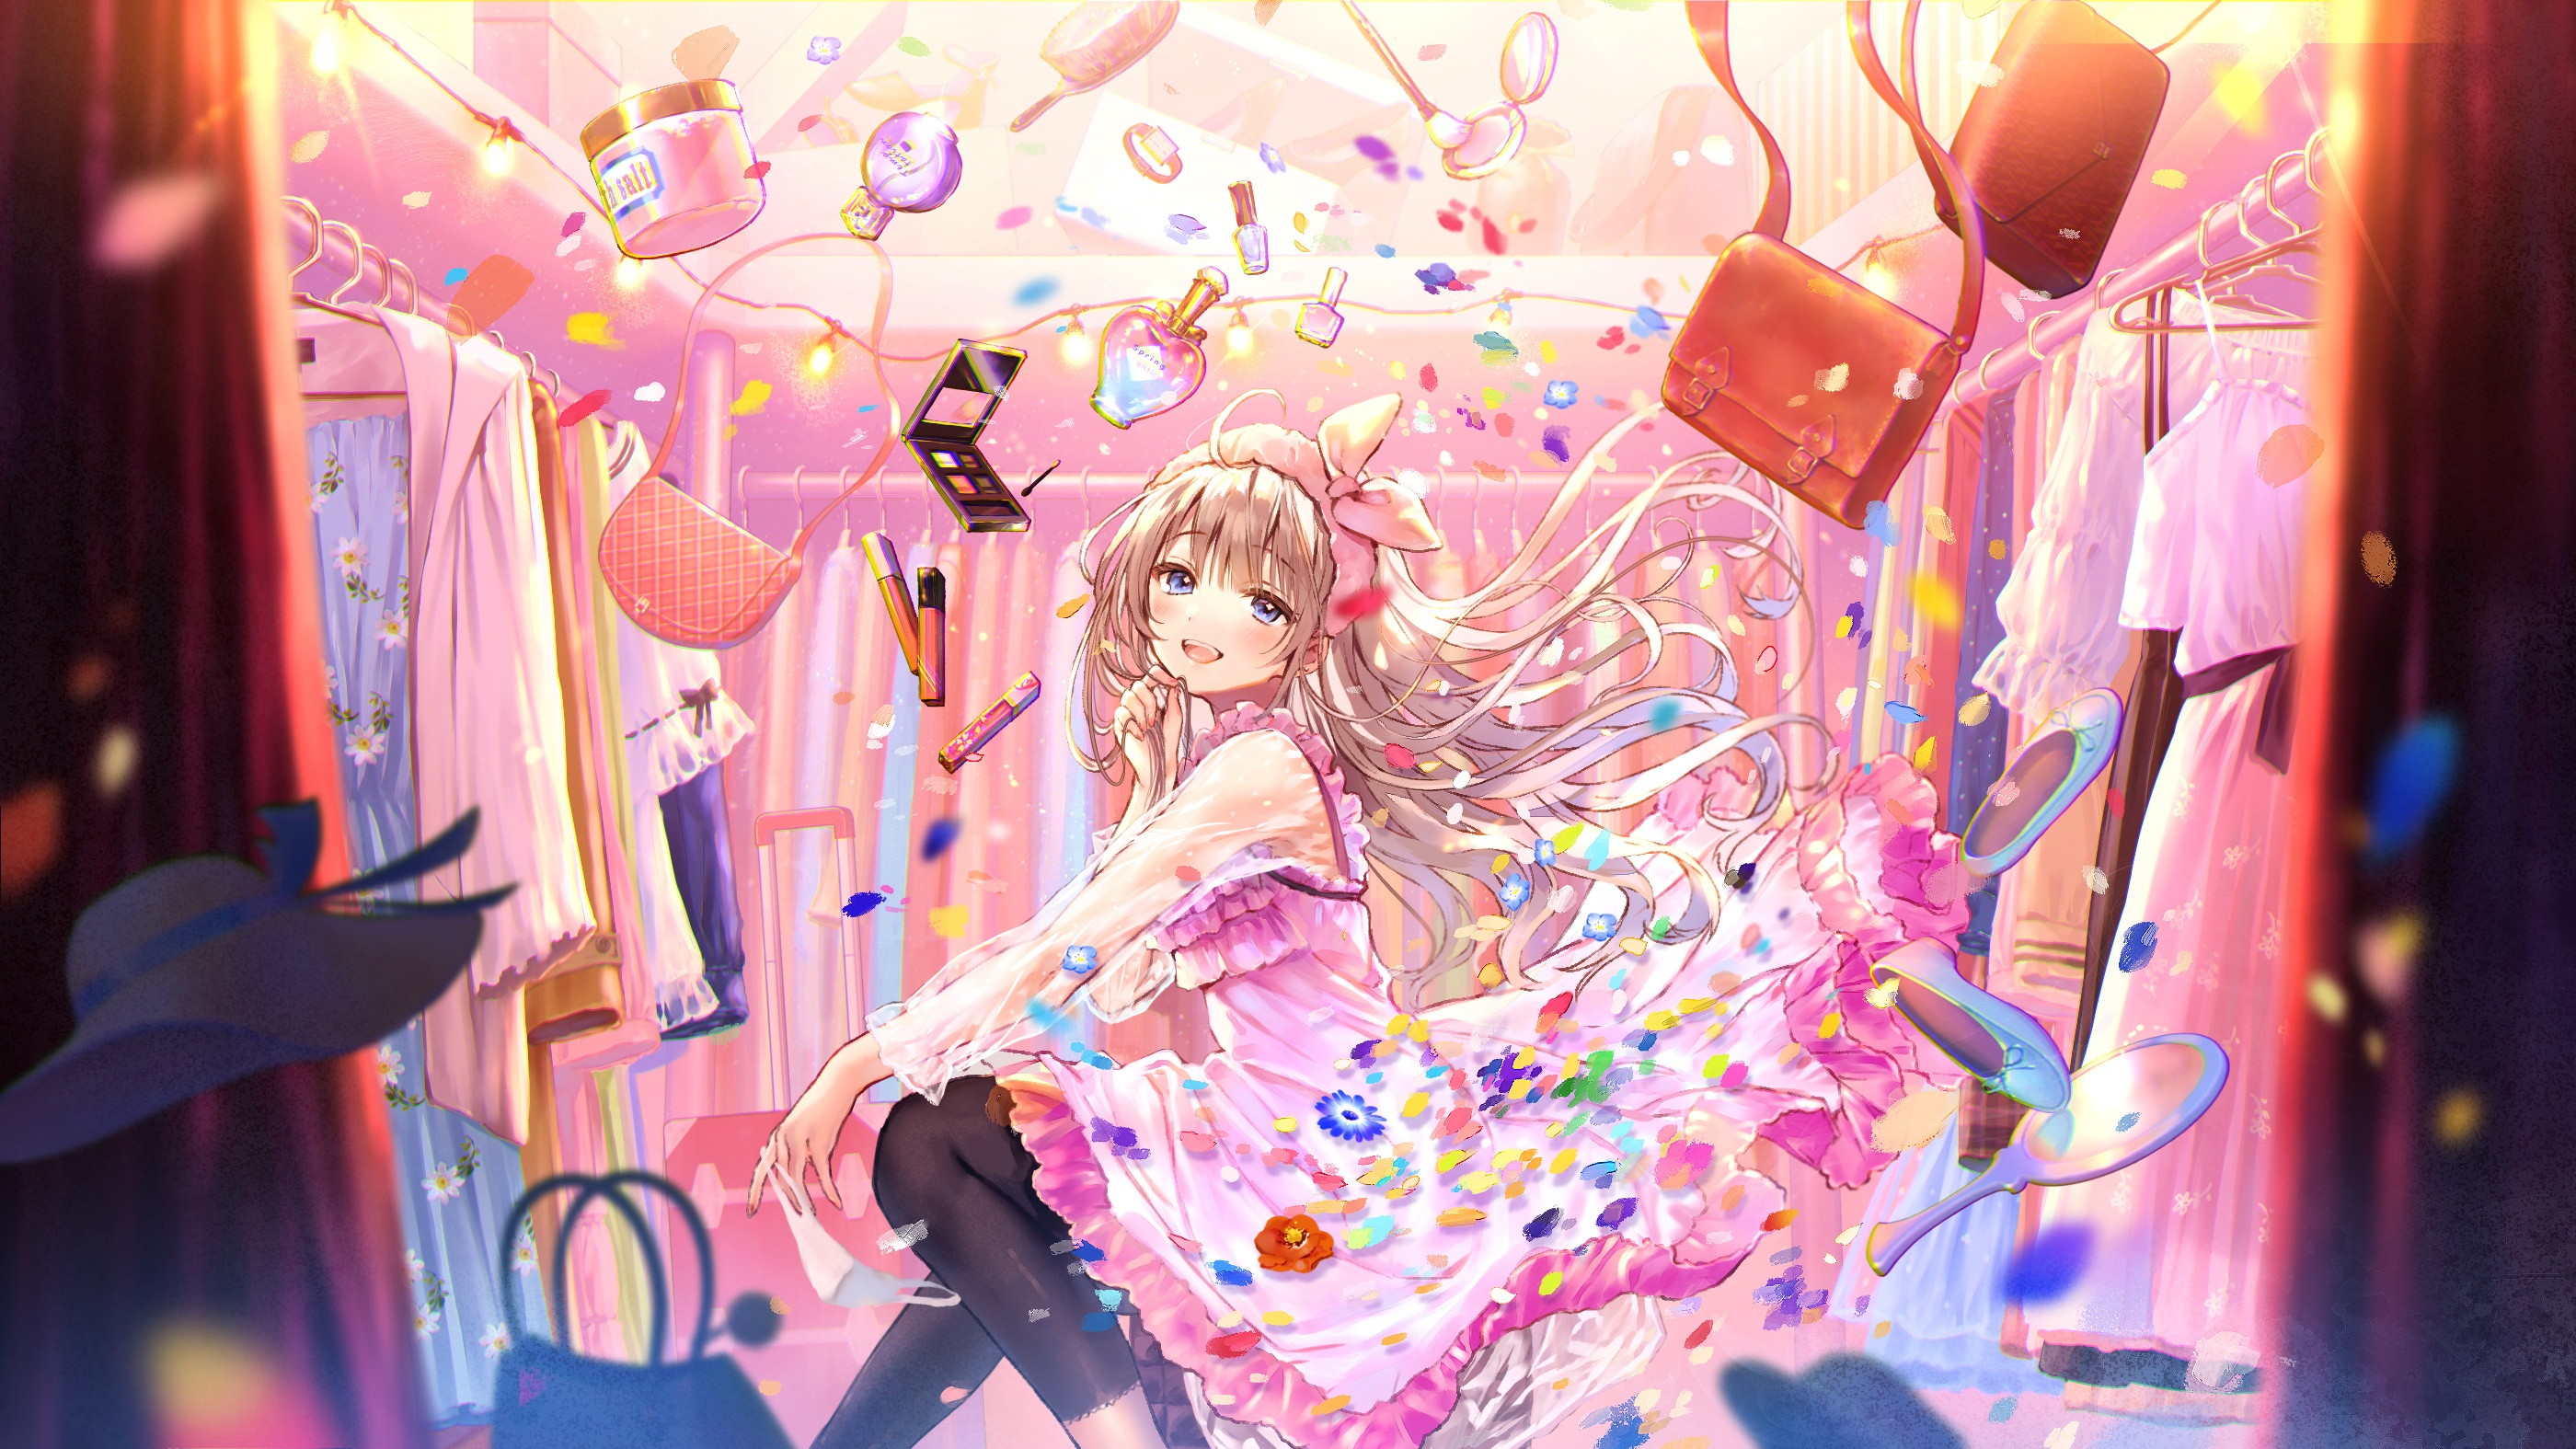纸片人正脸: (1085, 431, 1354, 725)
